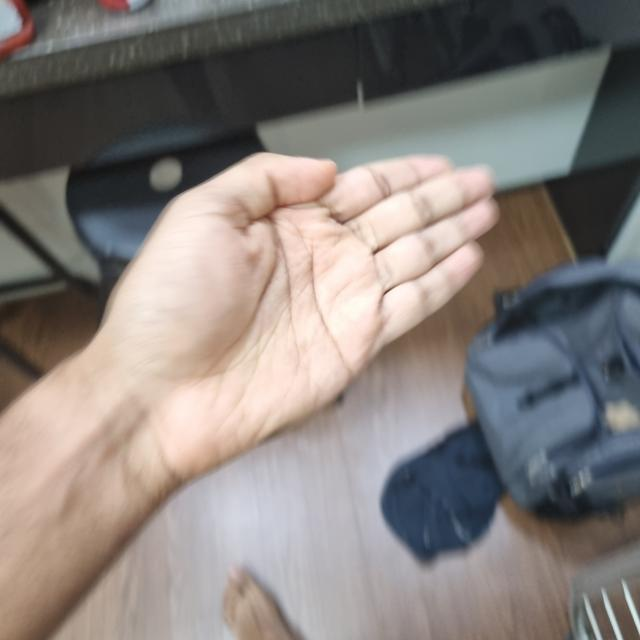Paper: (94, 157, 494, 467)
